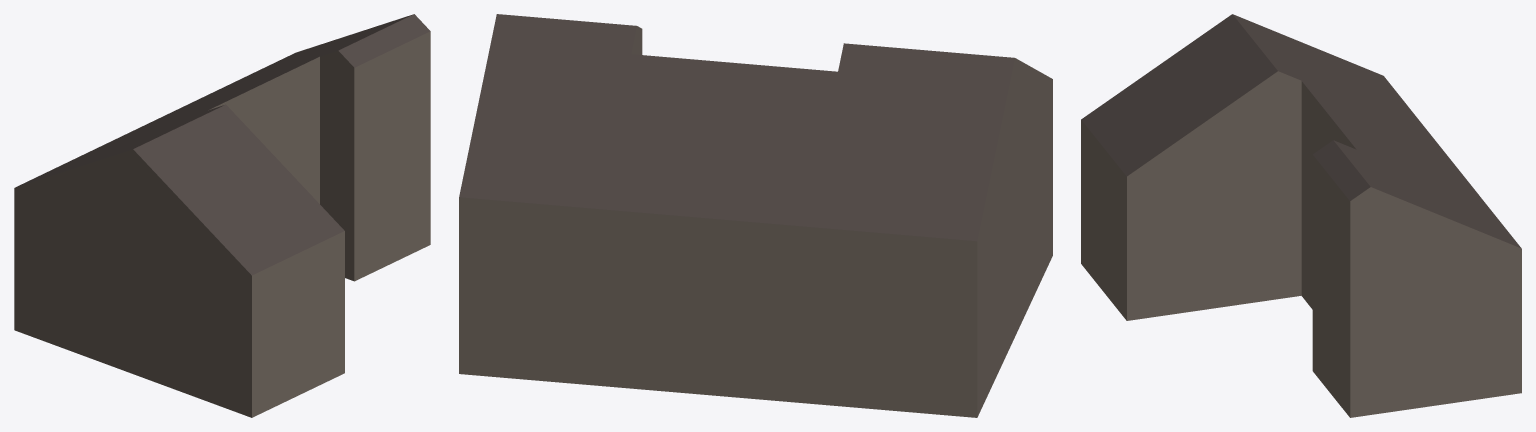
The picture shows the model from 3 angles, left to right: view 1: azimuth 30°, elevation 25°; view 2: azimuth 150°, elevation 25°; view 3: azimuth 270°, elevation 25°; orthographic projection. The views are drawn at different scales.
Parts seen in each view (by area): view 1: HP-w408450810; view 2: HP-w408450810; view 3: HP-w408450810.
Part boxes in pixels (<box>): HP-w408450810: <box>14,14,430,417</box>; HP-w408450810: <box>459,14,1052,417</box>; HP-w408450810: <box>1081,14,1521,417</box>.
Bounding box in the file's own units: 26.44 × 14.22 × 24.9.
